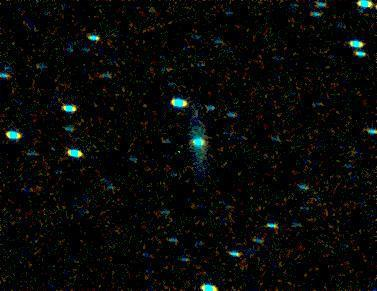star: (297, 202, 327, 232)
